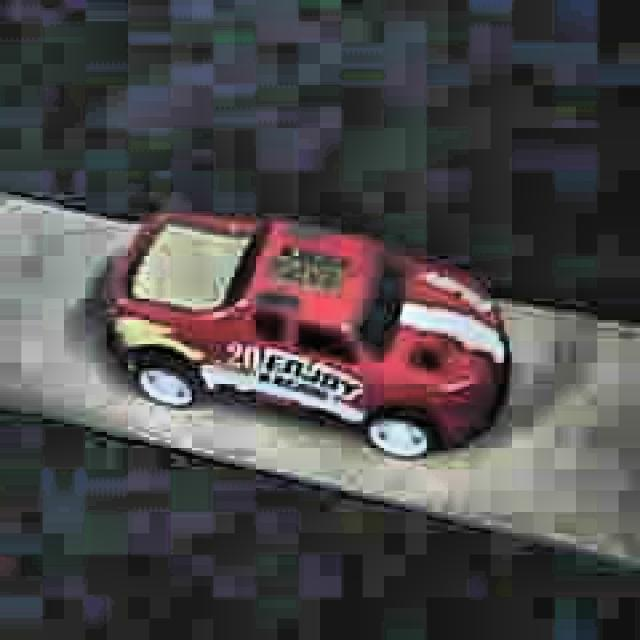car: (100, 208, 515, 466)
